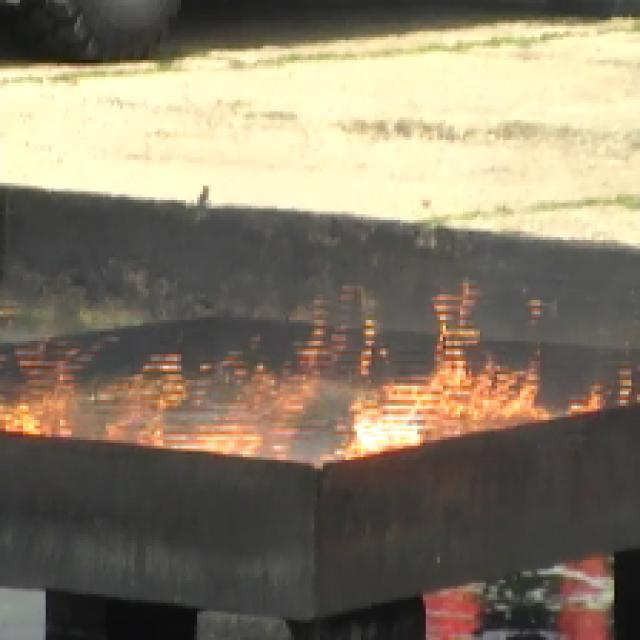Fire: (372, 360, 537, 449)
